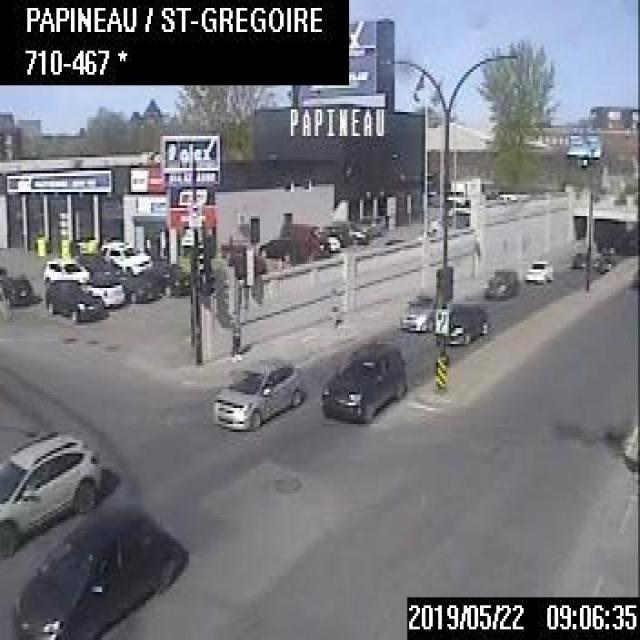vehicle: (11, 510, 166, 637), (0, 425, 107, 558), (209, 352, 304, 432), (320, 340, 406, 421), (46, 276, 107, 326), (444, 301, 486, 347), (100, 238, 150, 276), (396, 288, 434, 333), (445, 170, 484, 212), (84, 271, 124, 310), (152, 262, 191, 300), (0, 266, 35, 306), (42, 254, 88, 282), (483, 264, 517, 301), (114, 274, 154, 302), (256, 232, 294, 259), (522, 256, 553, 285), (591, 251, 611, 272), (567, 250, 584, 266)
